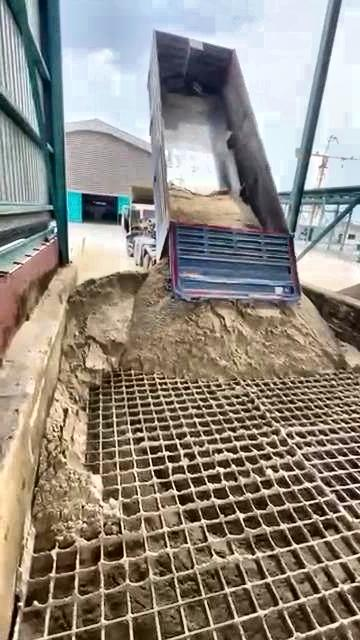sand: (34, 261, 344, 536), (170, 188, 261, 228), (341, 342, 360, 370)
